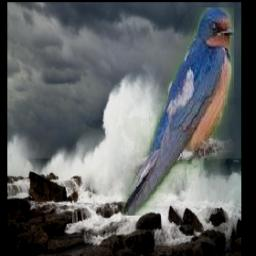Swallow: (123, 7, 235, 216)
